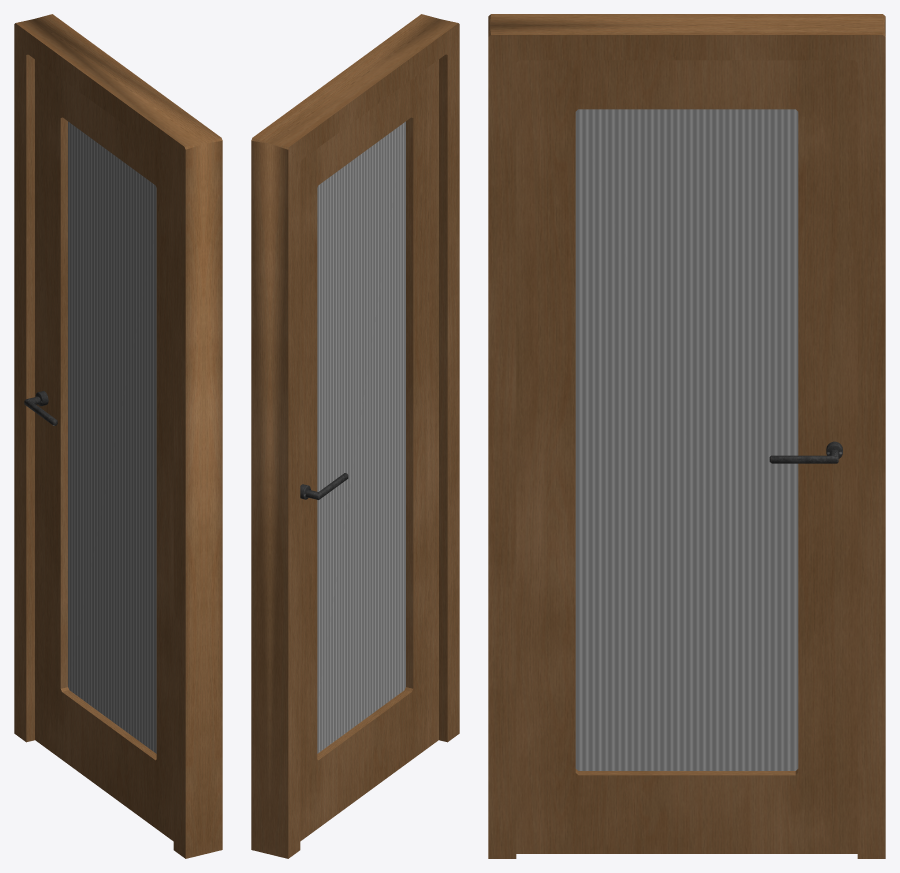
Rendered from door.glb.
The picture shows the model from 3 angles, left to right: view 1: azimuth 30°, elevation 25°; view 2: azimuth 150°, elevation 25°; view 3: azimuth 270°, elevation 25°; orthographic projection. The views are drawn at different scales.
Visible parts, largest first — view 1: Door__0; view 2: Door__0; view 3: Door__0.
Boxes of the visible parts, x1,y1,x2,y2 form: Door__0: [14, 14, 222, 858]; Door__0: [251, 14, 459, 858]; Door__0: [488, 14, 885, 858].
Size of the model in its own units: 0.1577 by 1.83 by 0.8.
1 material, 1 textured.
